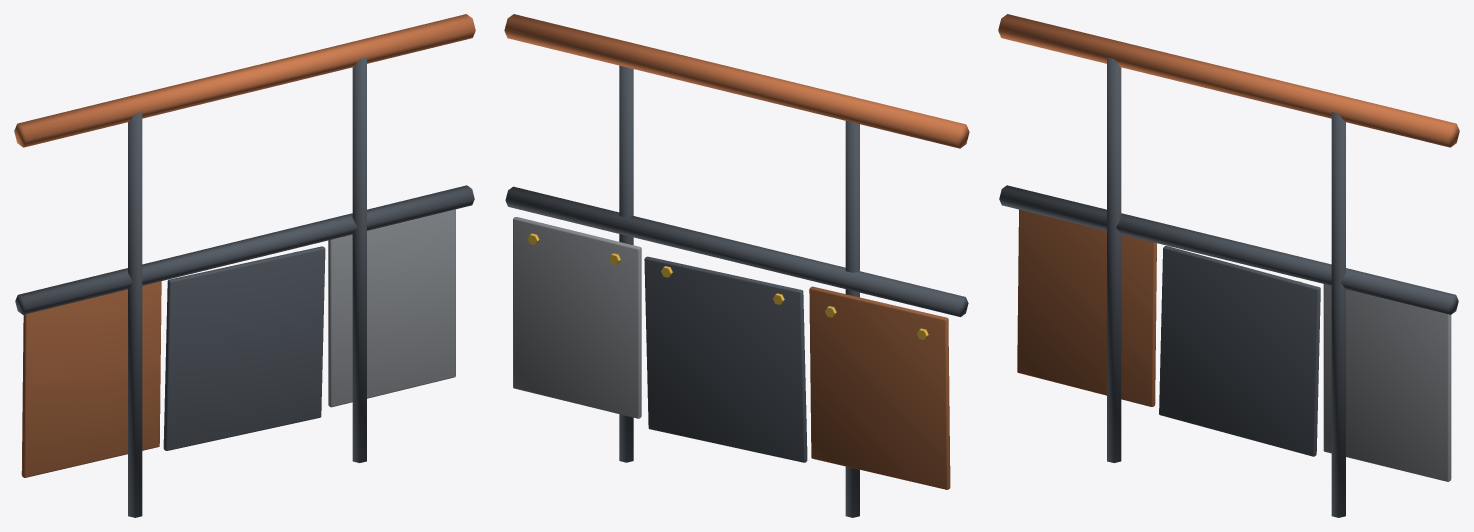
The model's file is fence-pipe-run.glb.
3 renders of one model, left to right at view 1: azimuth 30°, elevation 25°; view 2: azimuth 150°, elevation 25°; view 3: azimuth 330°, elevation 25°, orthographic.
Visible parts, largest first — view 1: fence; view 2: fence; view 3: fence.
Part boxes in pixels (x1,y1,x2,y2): fence: (14,14,475,517); fence: (504,14,969,517); fence: (998,14,1459,517).
Bounding box in the file's own units: 1 × 0.8808 × 0.062.
